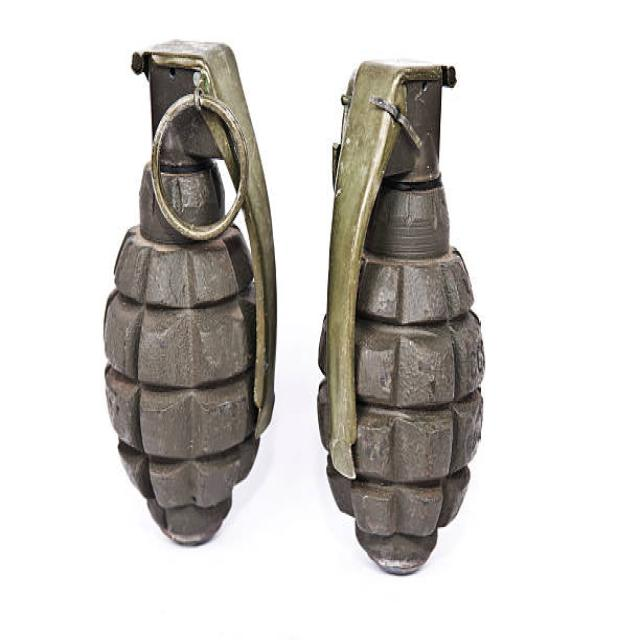grenade: (97, 37, 289, 556), (313, 55, 489, 588)
